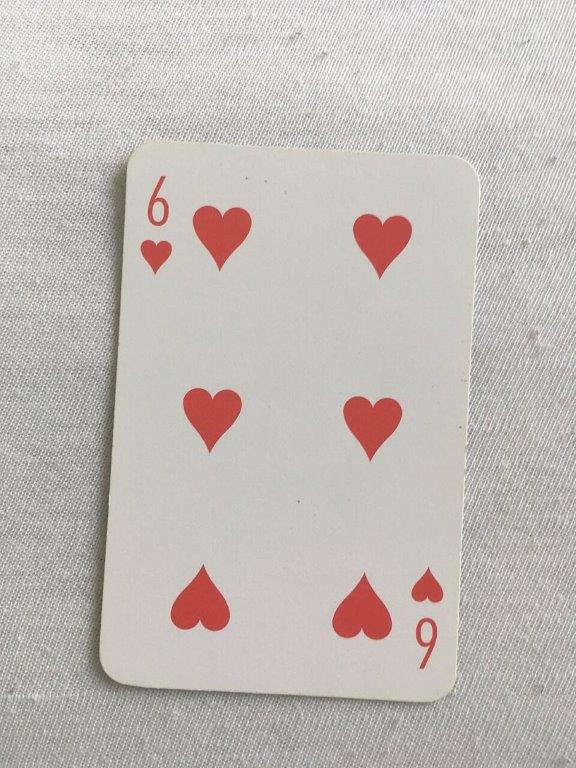6H: (94, 135, 484, 707)
